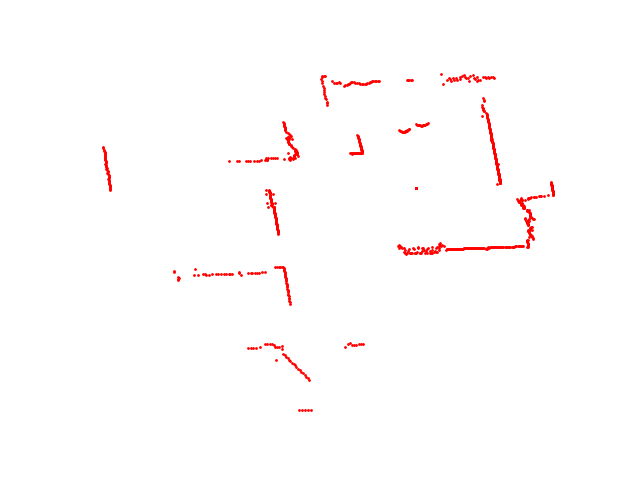person: (395, 119, 433, 138)
